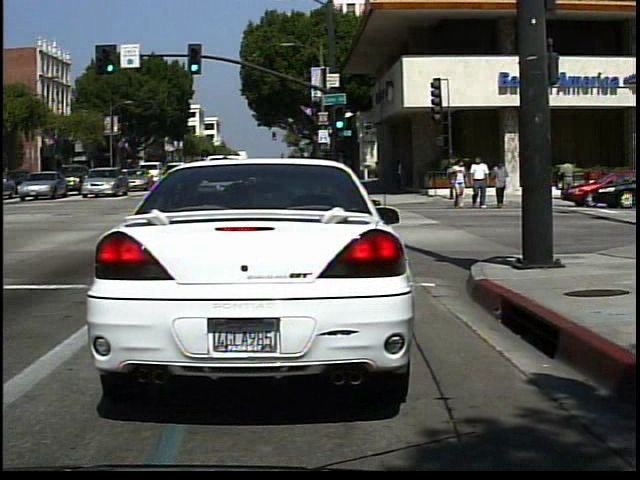person: (469, 154, 493, 208), (490, 159, 511, 211), (556, 156, 579, 203), (450, 157, 470, 210), (455, 164, 470, 212)
